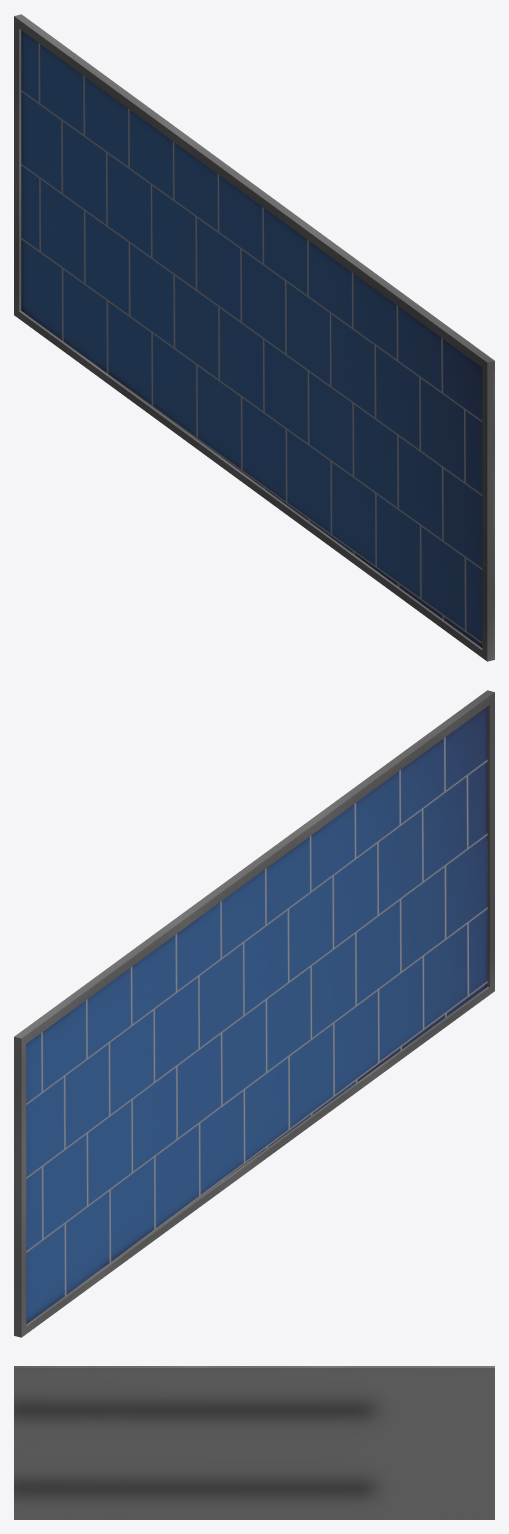
The model's file is SatellitePanel1.fbx.
3 views of the same model, one above another, from view 1: azimuth 30°, elevation 25°; view 2: azimuth 150°, elevation 25°; view 3: azimuth 270°, elevation 25° (orthographic). The views are drawn at different scales.
Visible parts, largest first — view 1: pCube7; view 2: pCube7; view 3: pCube7.
Part boxes in pixels (x1,y1,x2,y2): pCube7: (14, 14, 494, 661); pCube7: (14, 690, 494, 1337); pCube7: (14, 1366, 494, 1519).
Bounding box in the file's own units: 0.0488 × 1.83 × 5.26.
